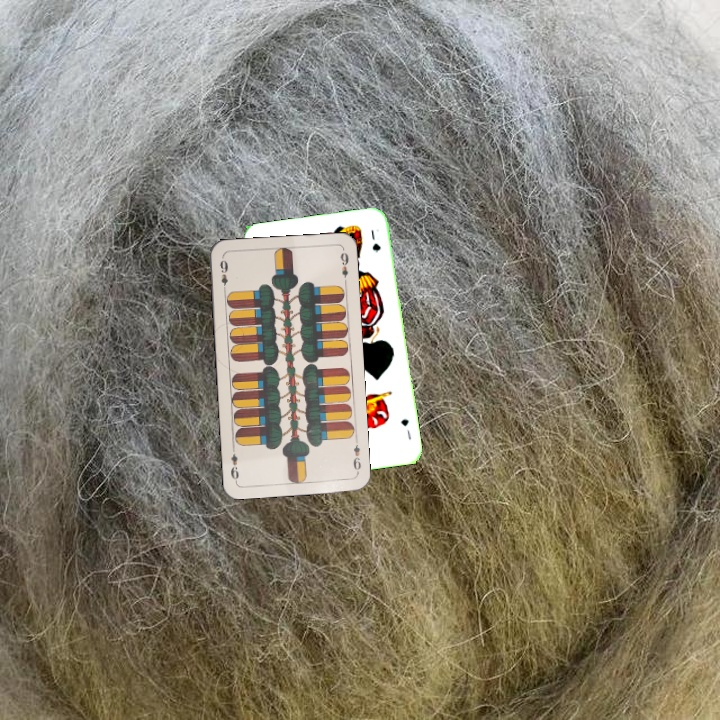E9: (349, 435, 364, 476), (216, 256, 231, 295)
GU: (397, 415, 414, 442)
